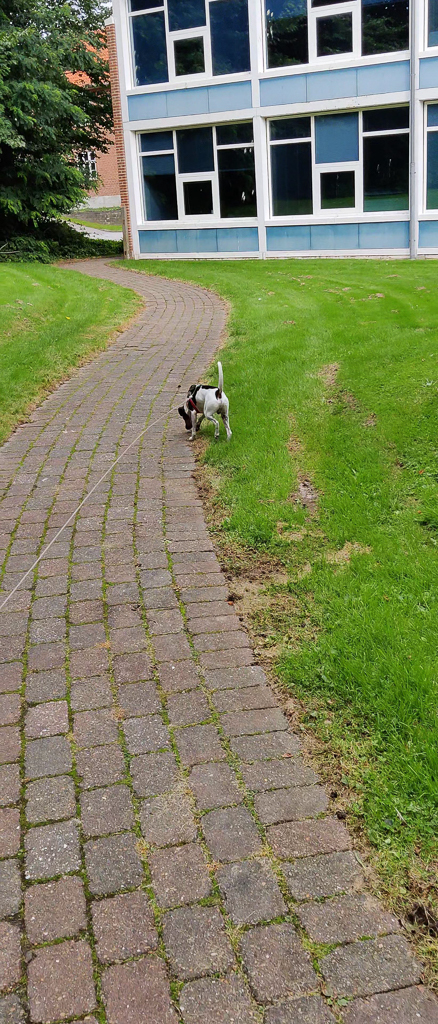Dog: (173, 356, 239, 450)
